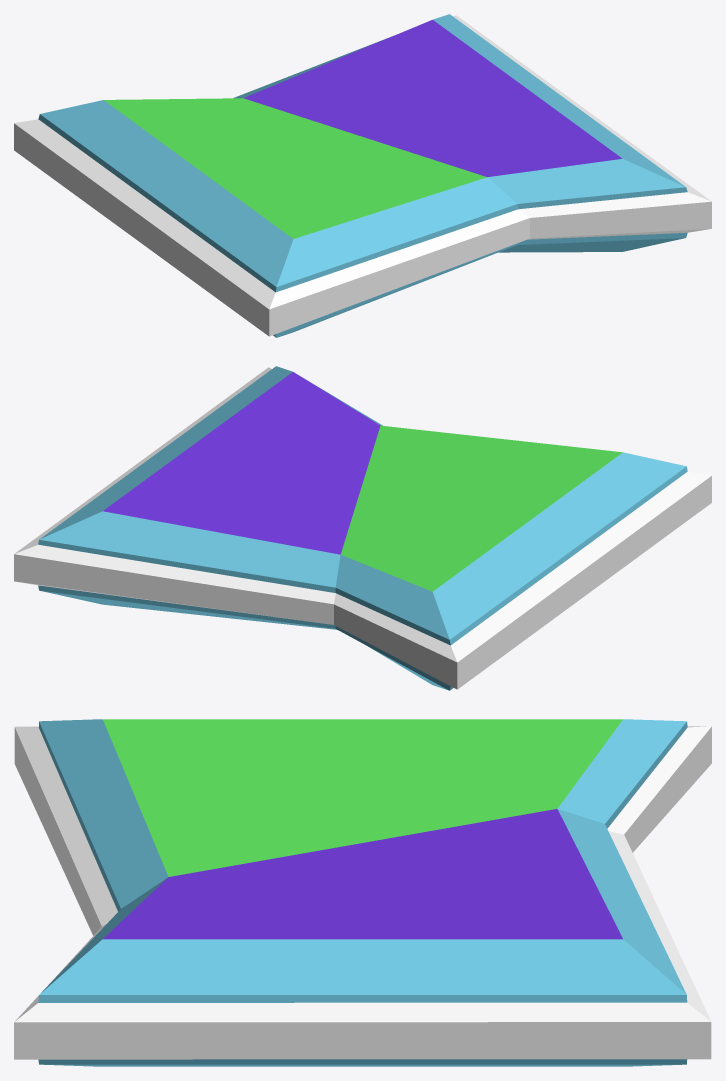
Rendered from TidePod.fbx.
3 views of the same model, one above another, from view 1: azimuth 30°, elevation 25°; view 2: azimuth 150°, elevation 25°; view 3: azimuth 270°, elevation 25° (orthographic). The views are drawn at different scales.
Parts seen in each view (by area): view 1: Cube; view 2: Cube; view 3: Cube.
Part boxes in pixels (<box>): Cube: <box>14,14,711,337</box>; Cube: <box>14,366,711,690</box>; Cube: <box>14,719,711,1066</box>.
Size of the model in its own units: 34.98 by 7.03 by 34.85.
